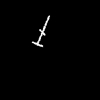double_crochet: (32, 16, 49, 46)
